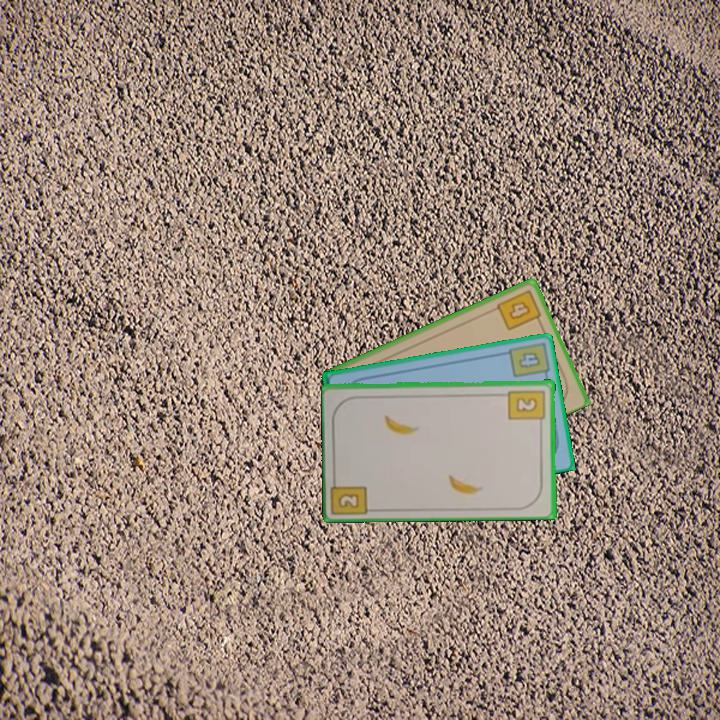2b: (330, 472, 372, 517), (506, 386, 548, 428)
4b: (493, 286, 545, 333), (505, 341, 551, 382)
